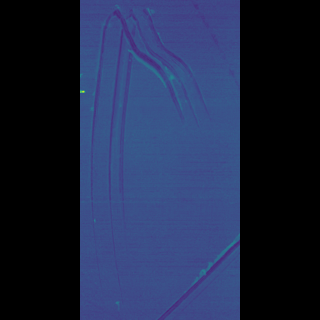Loch: (123, 6, 187, 309), (156, 225, 200, 318), (173, 1, 208, 94)
